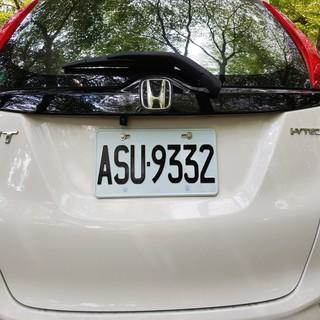license: (91, 139, 219, 190)
